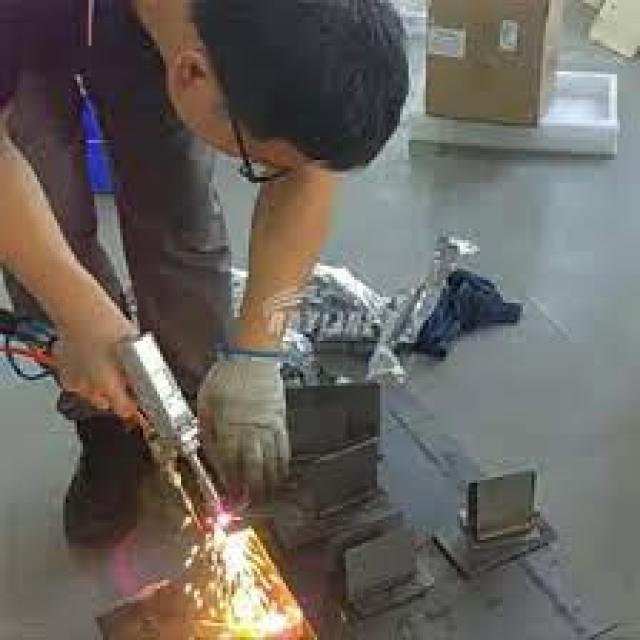fire: (212, 511, 315, 640)
